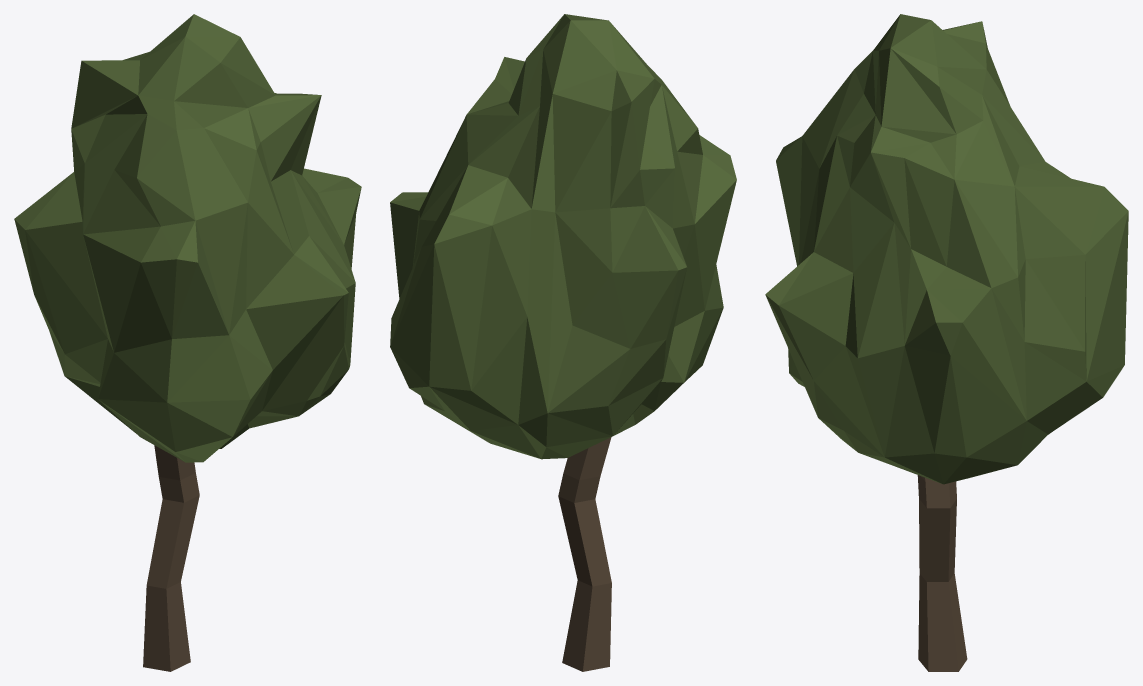
Rendered from tree_068.fbx.
3 views of the same model, side by side, from view 1: azimuth 30°, elevation 25°; view 2: azimuth 150°, elevation 25°; view 3: azimuth 270°, elevation 25° (orthographic). The views are drawn at different scales.
Parts seen in each view (by area): view 1: tree_068; view 2: tree_068; view 3: tree_068.
Boxes of the visible parts, x1,y1,x2,y2 form: tree_068: [14, 14, 361, 671]; tree_068: [390, 14, 736, 671]; tree_068: [765, 14, 1128, 671].
Size of the model in its own units: 1.12 by 2.19 by 1.1.
1 material, 1 textured.
